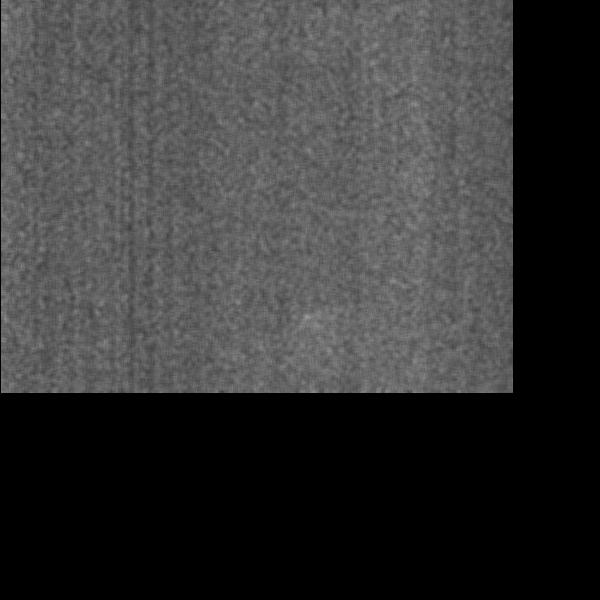spark: (401, 351, 434, 372), (406, 274, 429, 289)
